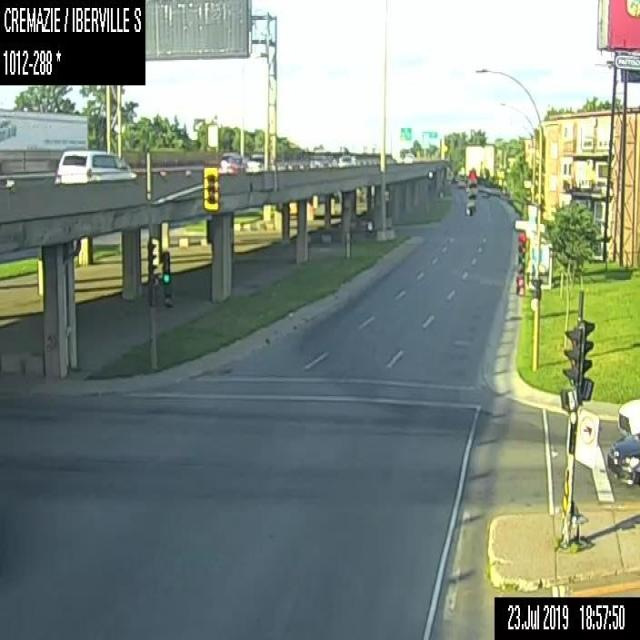vehicle: (0, 107, 87, 171), (54, 148, 136, 184), (606, 432, 639, 486), (617, 394, 639, 434), (218, 151, 248, 171), (245, 152, 264, 170), (337, 152, 356, 167), (403, 151, 414, 163), (456, 178, 466, 188)
